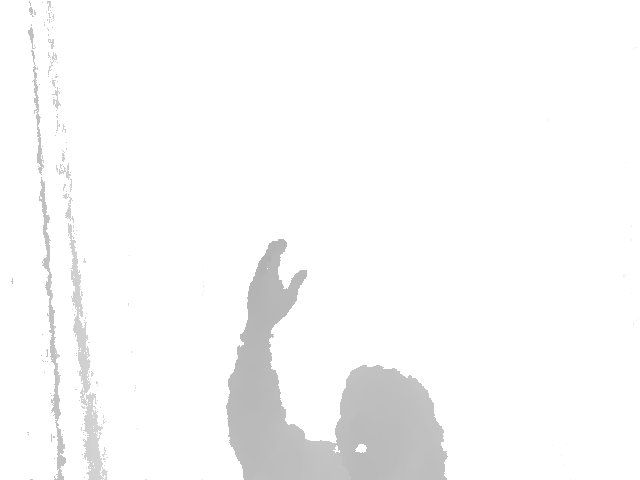hand: (242, 234, 308, 334)
head: (331, 364, 444, 473)
person: (224, 234, 449, 480)
